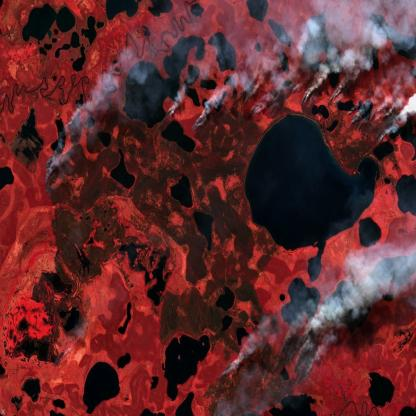fire: (41, 70, 416, 205), (202, 318, 333, 406), (21, 267, 49, 311), (45, 336, 74, 374)
